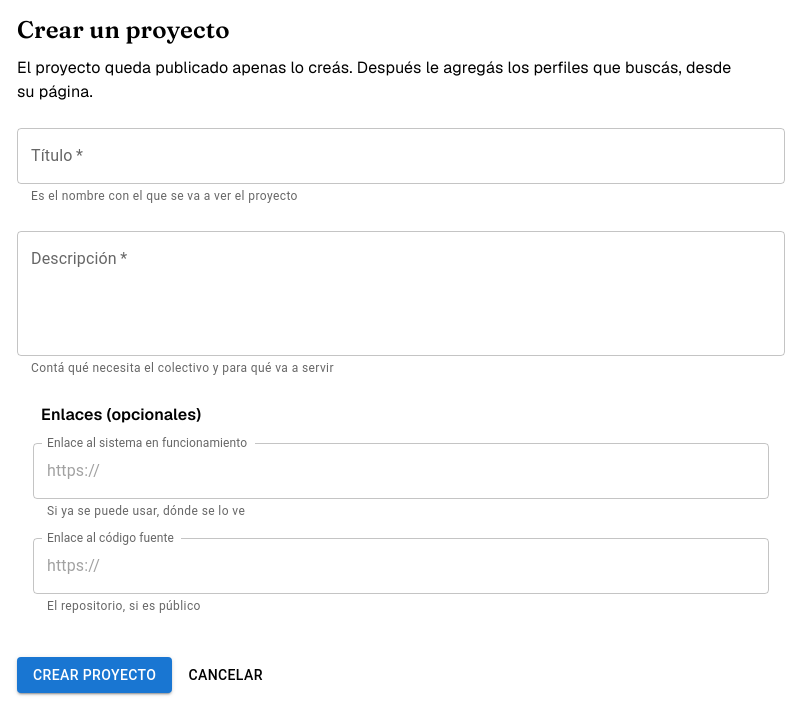
Test: NuevoProyecto › sin título ni descripción no se envía y dice qué falta
Click the button "Crear proyecto" at (95, 675), box [17,657,172,693]
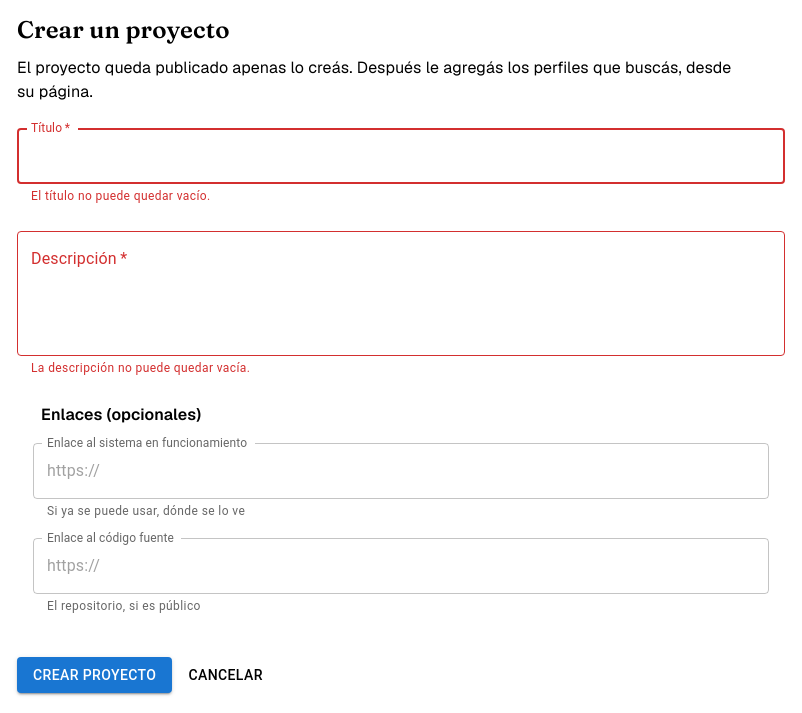
Now the text "El título no puede quedar vacío." is shown, box [31,189,211,203]
Now the text "La descripción no puede quedar vacía." is shown, box [31,361,250,375]
